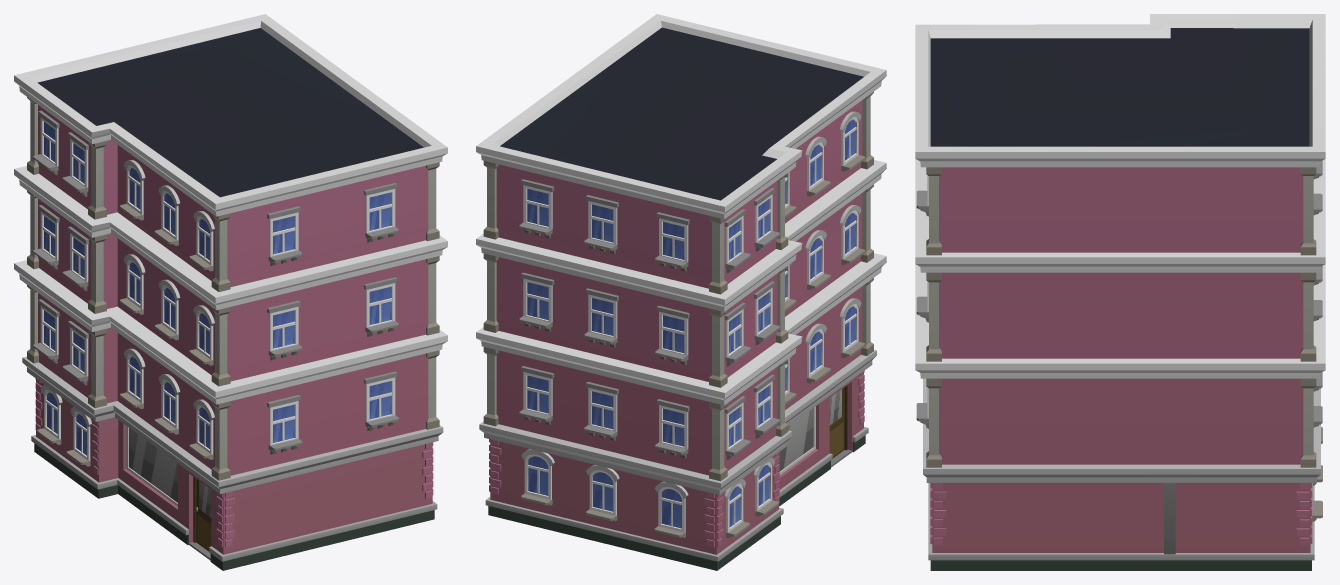
The model's file is Building_1_4_N.fbx.
3 views of the same model, side by side, from view 1: azimuth 30°, elevation 25°; view 2: azimuth 150°, elevation 25°; view 3: azimuth 270°, elevation 25° (orthographic). The views are drawn at different scales.
Visible parts, largest first — view 1: Building_1_4_N; view 2: Building_1_4_N; view 3: Building_1_4_N.
Boxes of the visible parts, x1,y1,x2,y2 form: Building_1_4_N: (14,14,447,570); Building_1_4_N: (476,14,886,570); Building_1_4_N: (915,14,1325,570).
Size of the model in its own units: 841 by 1201 by 1057.
